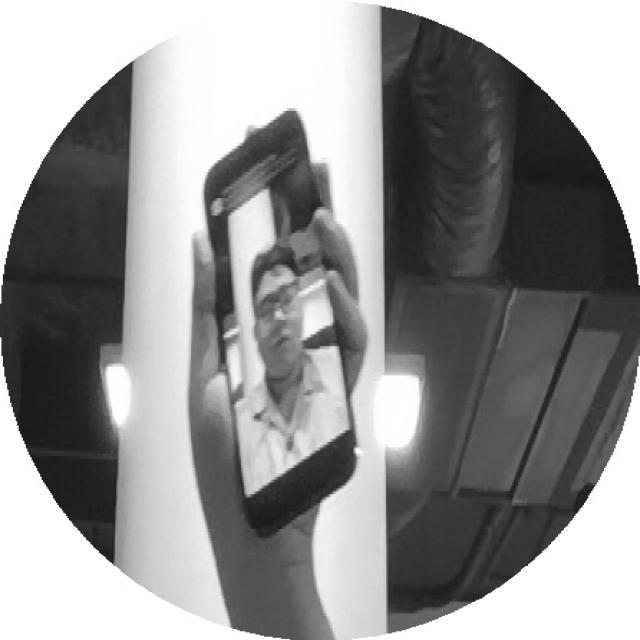fake: (145, 110, 396, 541), (185, 98, 372, 545)
